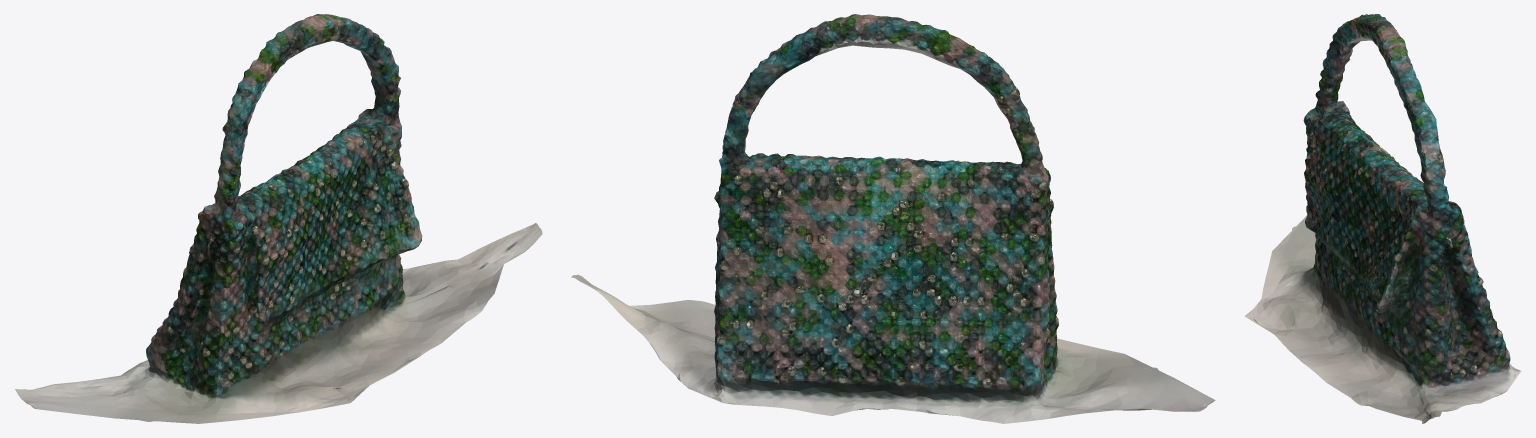
The model's file is bolso3d.fbx.
3 views of the same model, side by side, from view 1: azimuth 30°, elevation 25°; view 2: azimuth 150°, elevation 25°; view 3: azimuth 270°, elevation 25° (orthographic). The views are drawn at different scales.
Parts seen in each view (by area): view 1: meshes[0]; view 2: meshes[0]; view 3: meshes[0].
Part boxes in pixels (box(x1,y1,x2,y2)): meshes[0]: box(15, 14, 542, 423); meshes[0]: box(571, 14, 1215, 423); meshes[0]: box(1244, 14, 1521, 423).
Size of the model in its own units: 1.19 by 0.6817 by 0.5475.
Materials: 1 (1 with a texture image).
